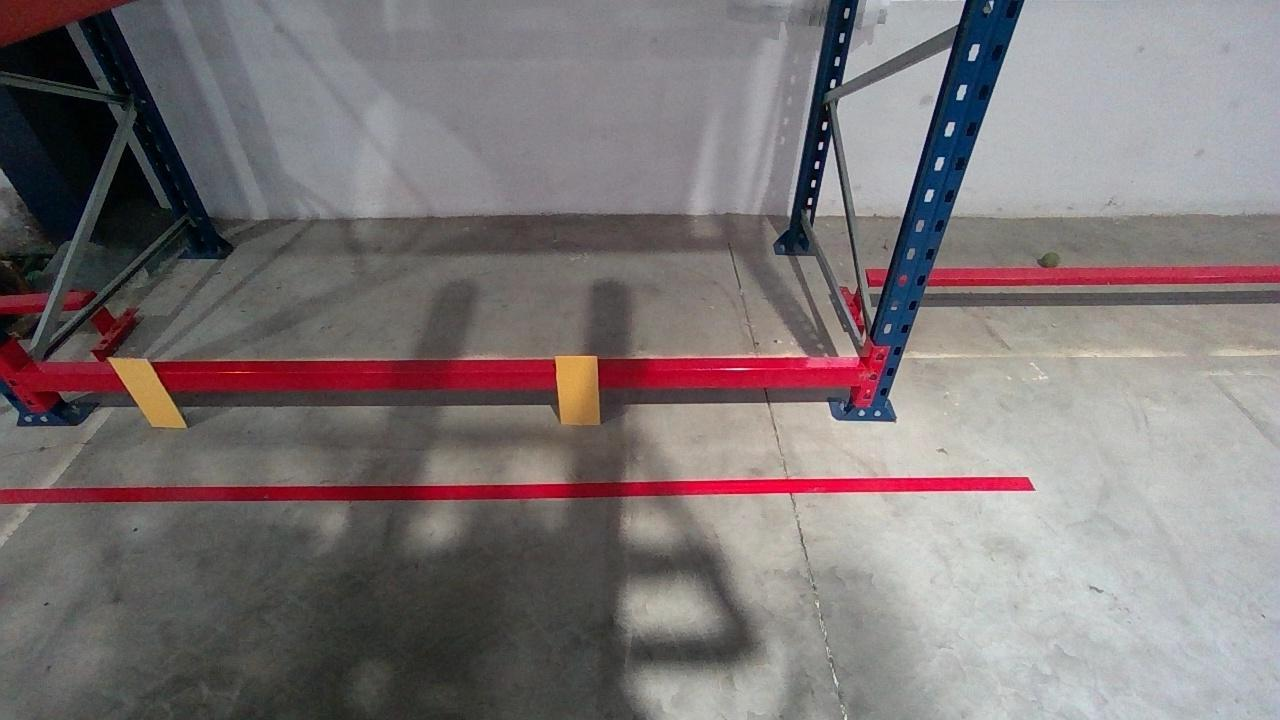h_rack: (12, 368, 870, 392)
orange_strip: (104, 357, 187, 425), (552, 356, 600, 424)
red_line: (3, 475, 1036, 502)
